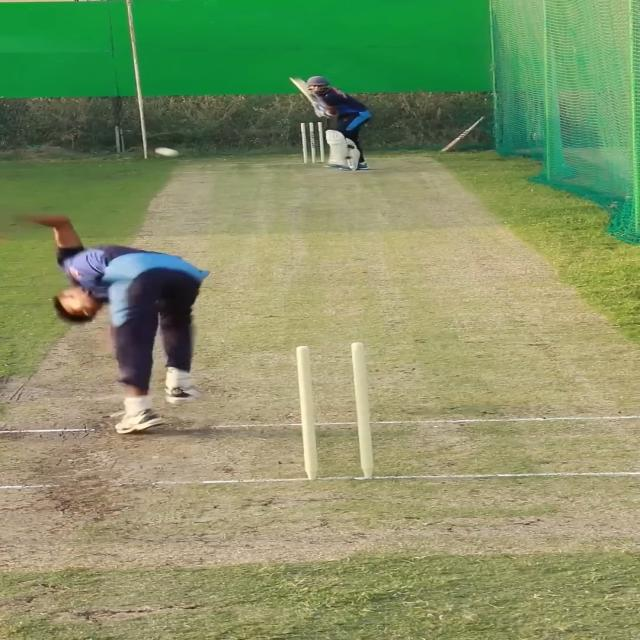ball: (155, 147, 181, 159)
stump: (290, 341, 378, 481), (299, 122, 326, 163)
